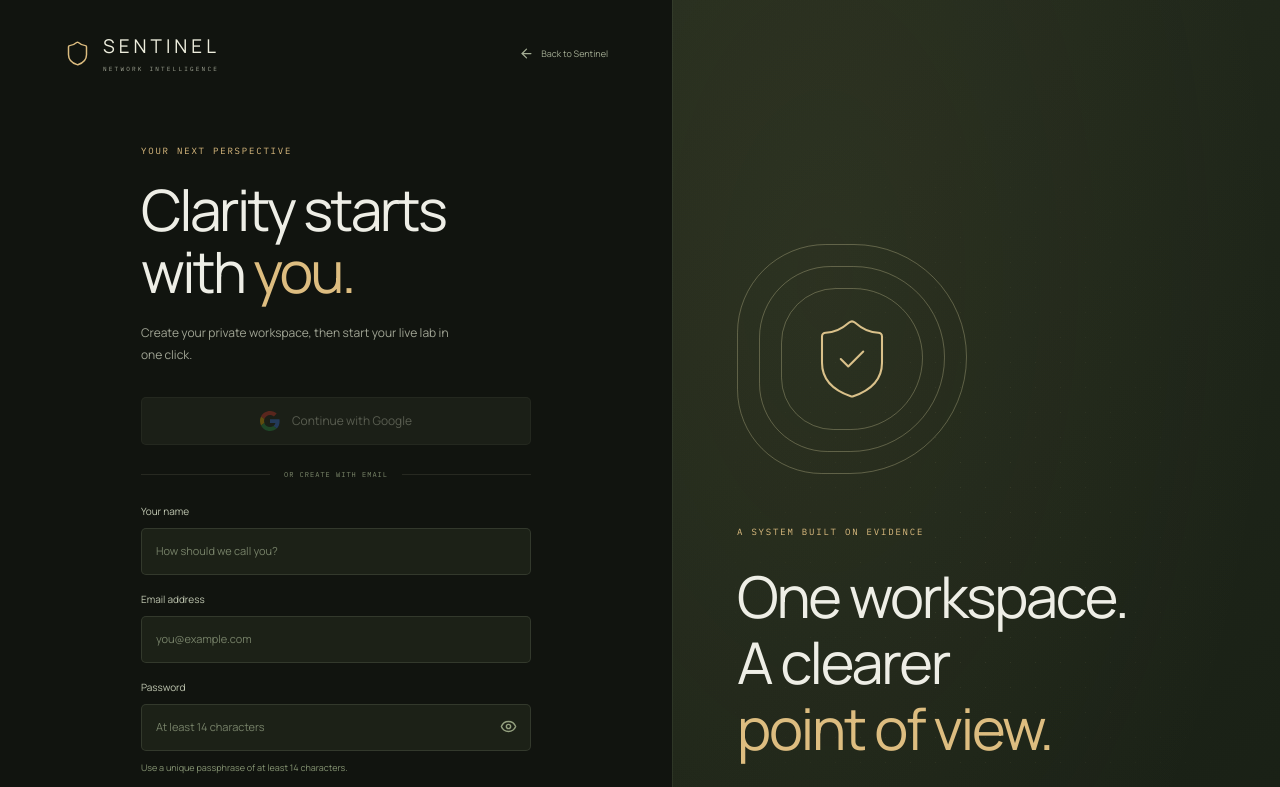
Test: public account entry › rejects password confirmation mismatches before creating an account
The width and height of the screenshot is (1280, 787).
Type "Local Investigator" into the field labelled "Your name" at point(336, 551), box [141, 528, 531, 575]
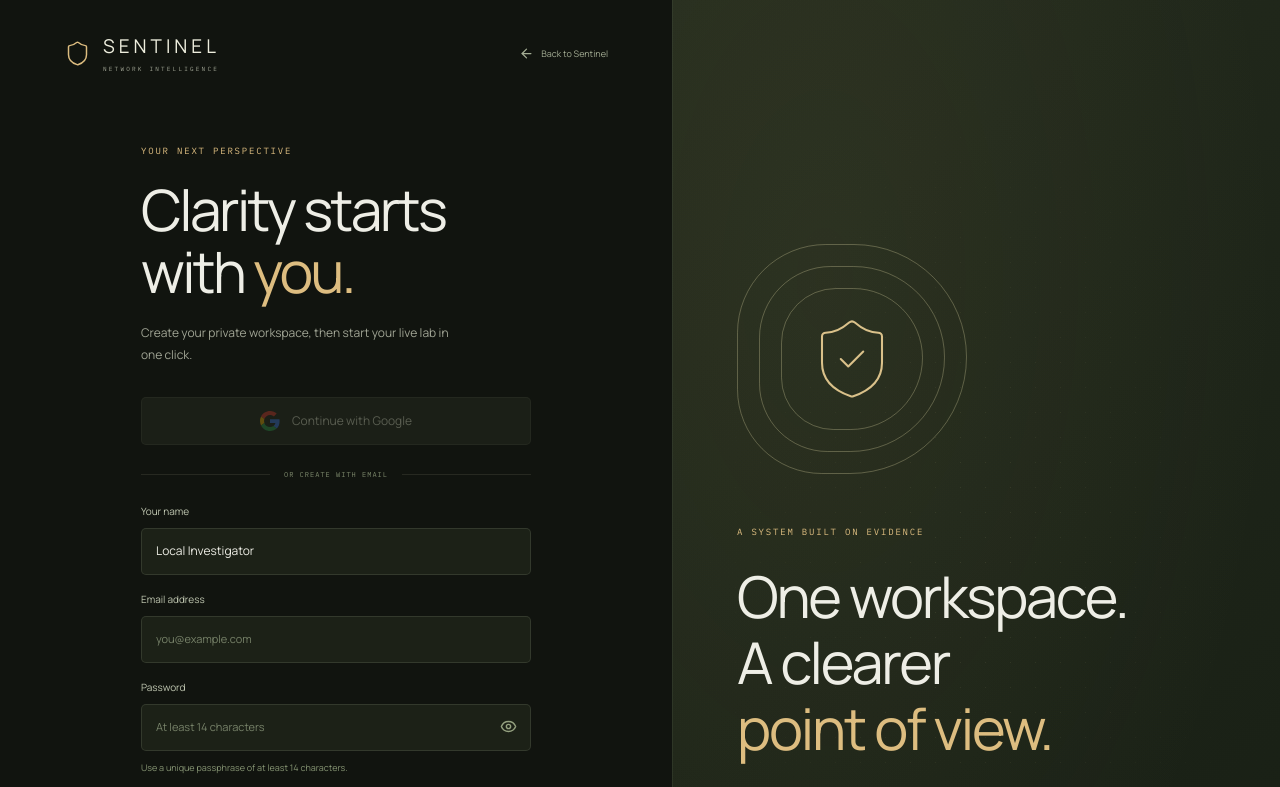
Type "local@example.test" into the field labelled "Email address" at point(336, 639), box [141, 616, 531, 663]
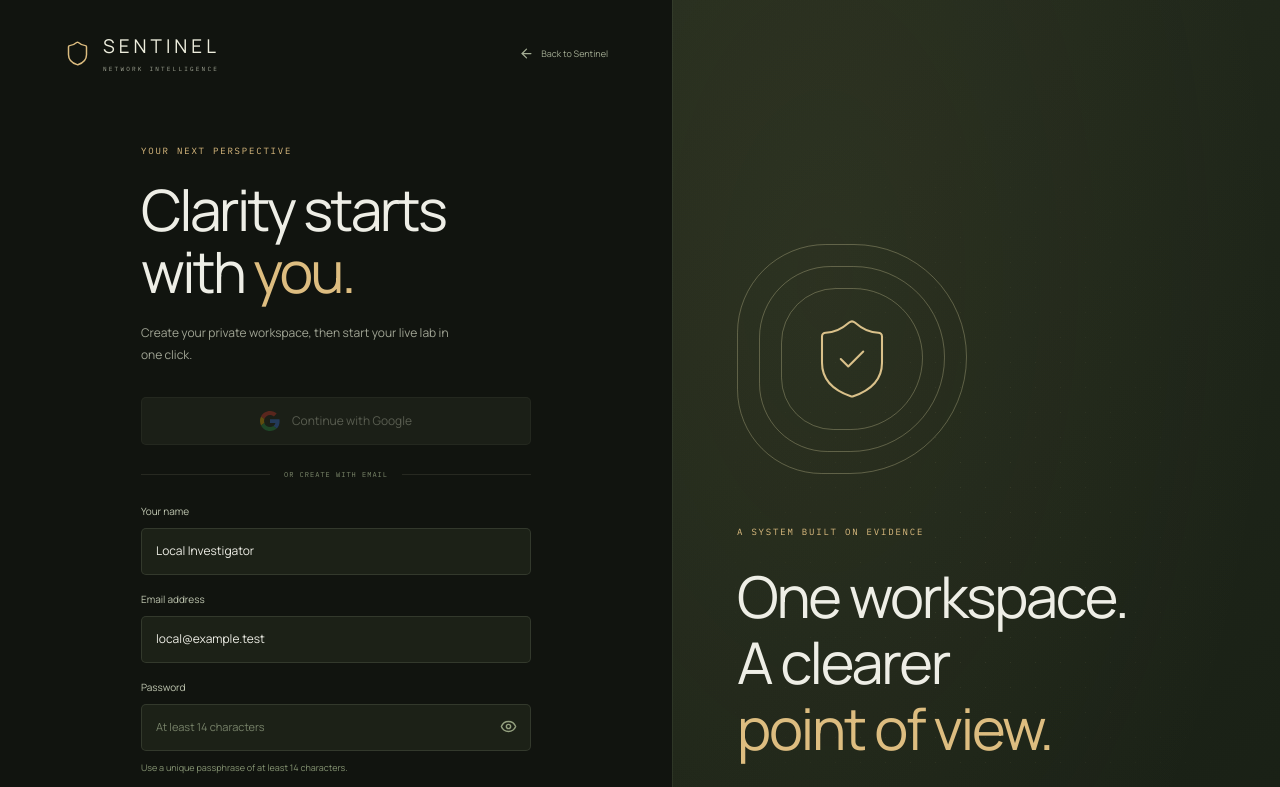
Type "A-long-private-passphrase!" into the password field labelled "Password" at point(336, 727), box [141, 704, 531, 751]
(page scrolled)
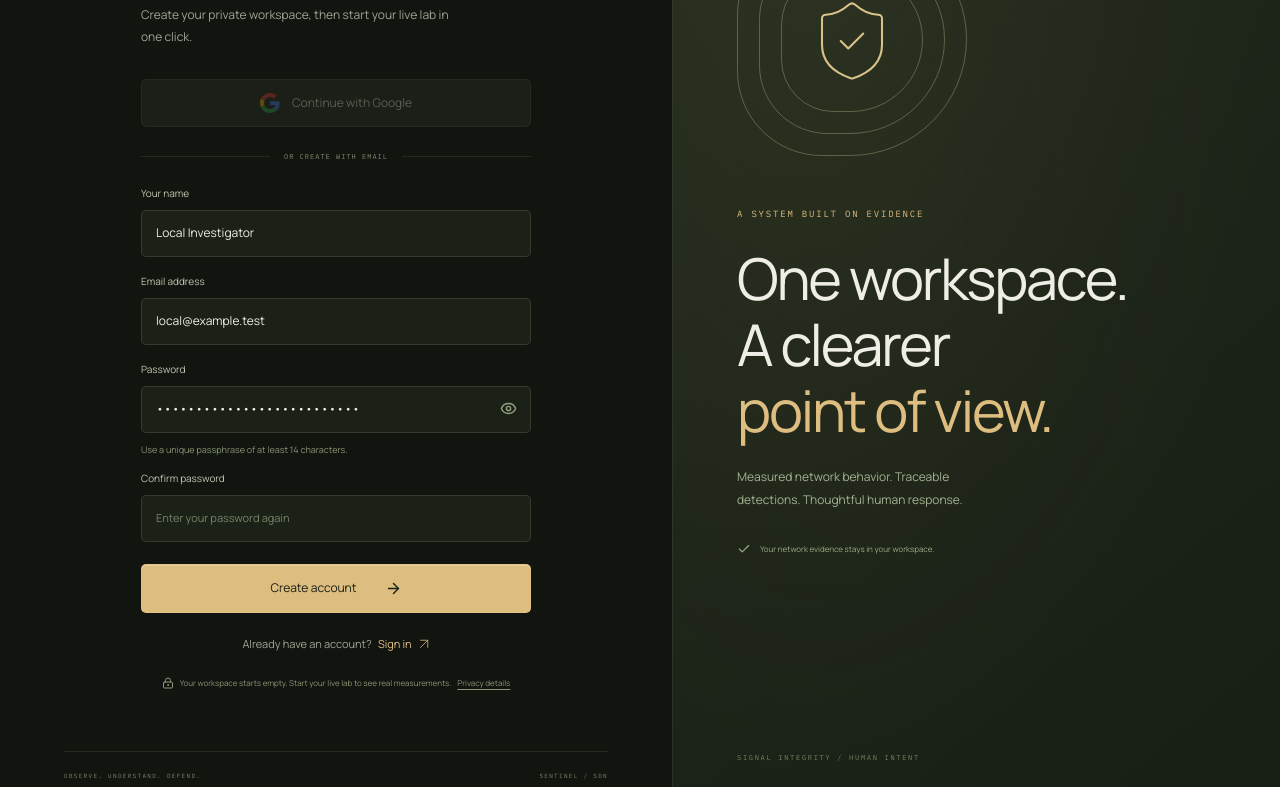
Type "A-different-passphrase!" into the password field labelled "Confirm password" at point(336, 518), box [141, 495, 531, 542]
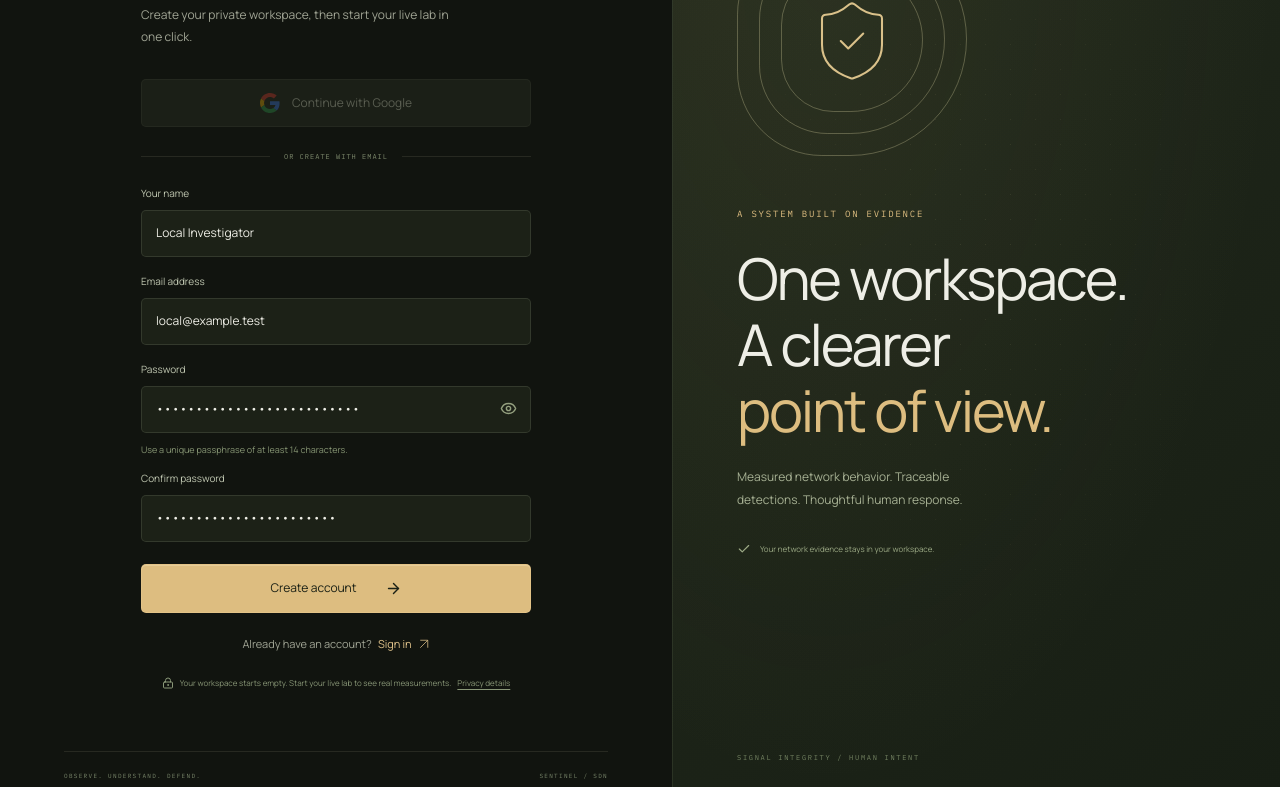
Submit the form named "Create account", box [141, 186, 531, 613]
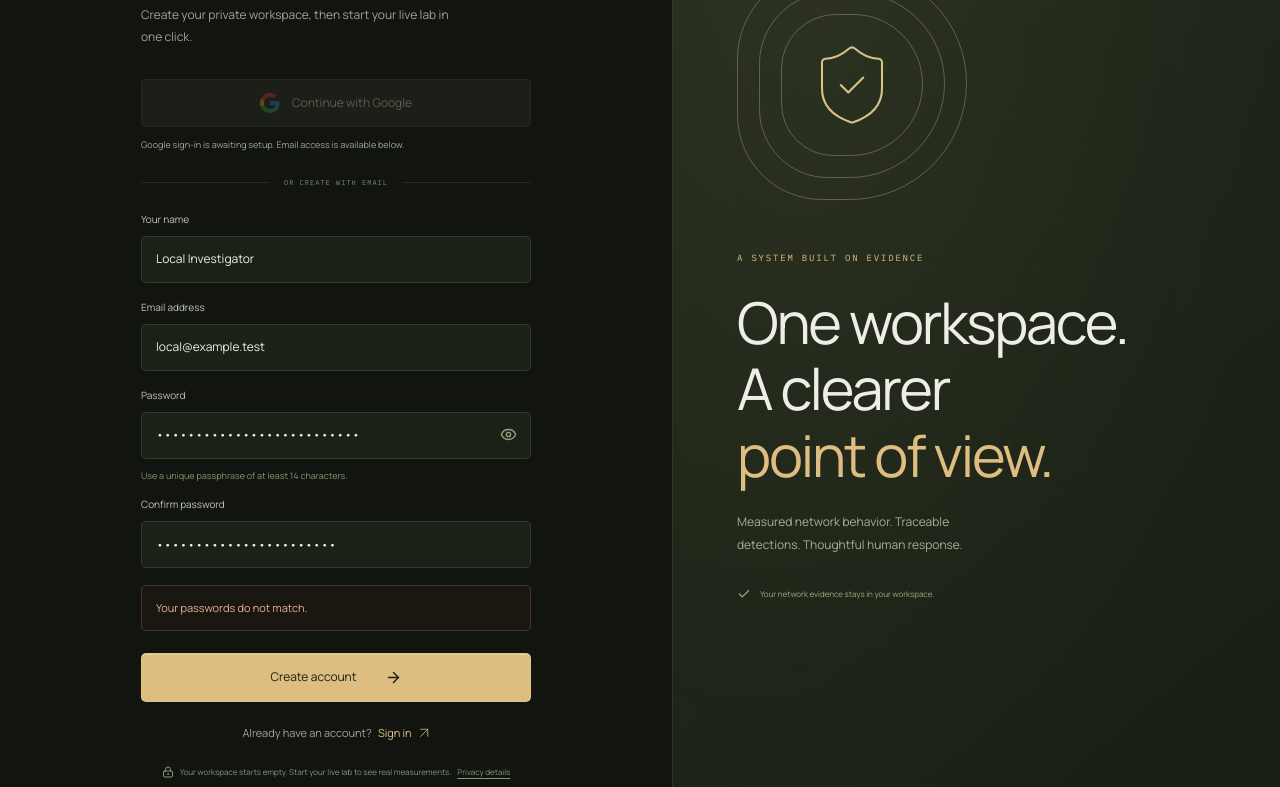
Expected: the text "Your passwords do not match." is shown, [141, 585, 531, 631]
